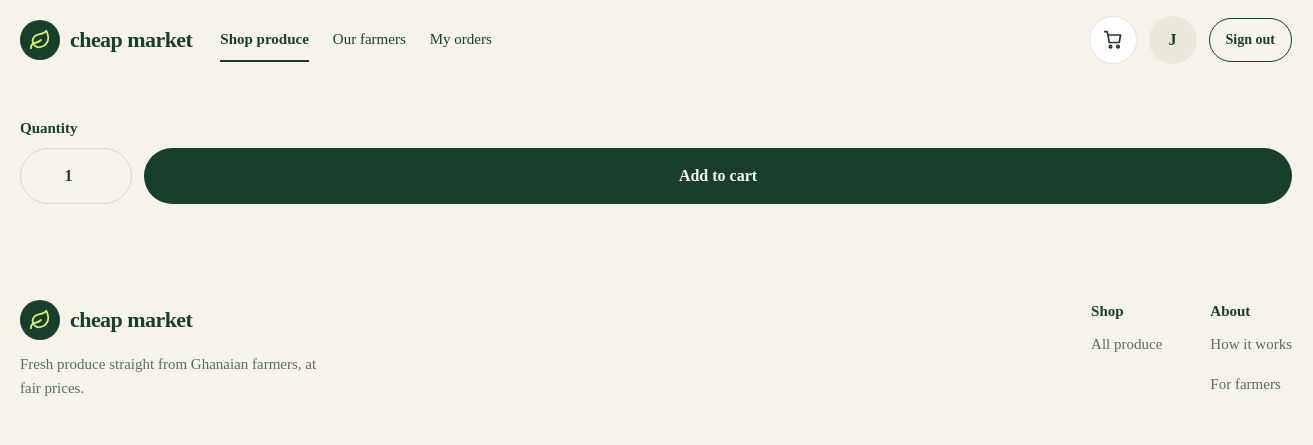
Scenario: AddToCart › rejects the quantity 0
The image size is (1313, 445).
Replace the text in the number field labelled "Quantity" with "0": coordinates (76, 176) x1=20 y1=148 x2=132 y2=204
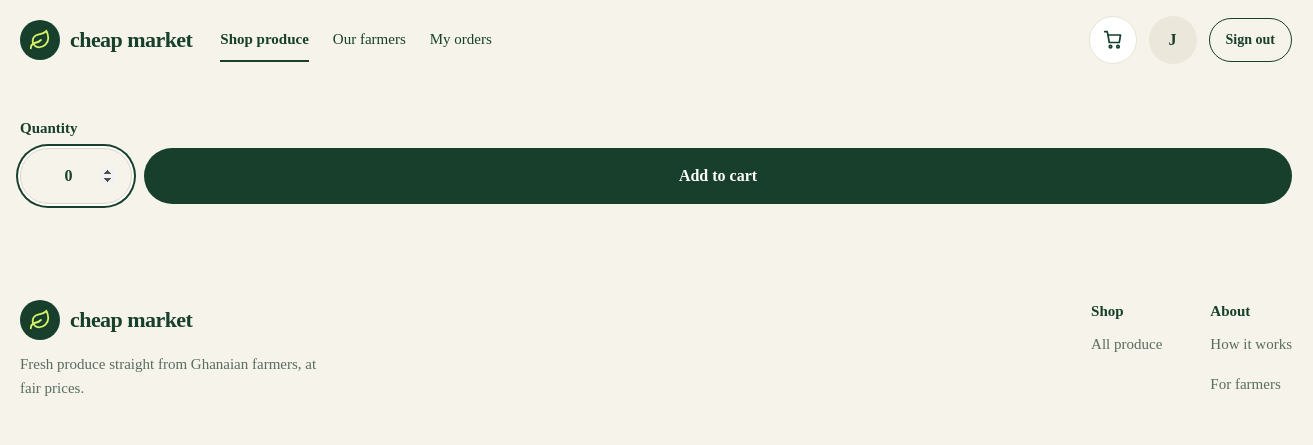
Click the button "Add to cart": coordinates (718, 176) x1=144 y1=148 x2=1292 y2=204
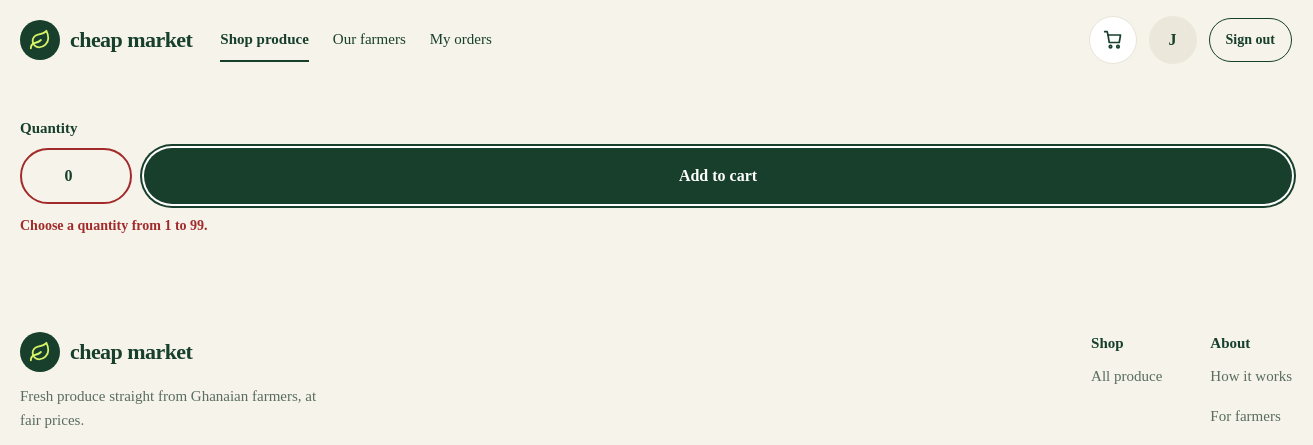
Now the message reads "Choose a quantity from 1 to 99.", box x1=20 y1=218 x2=208 y2=233
